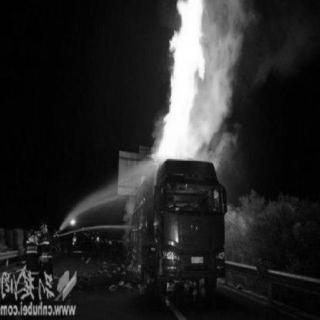Fire: (149, 0, 210, 161)
other: (149, 158, 232, 292)
